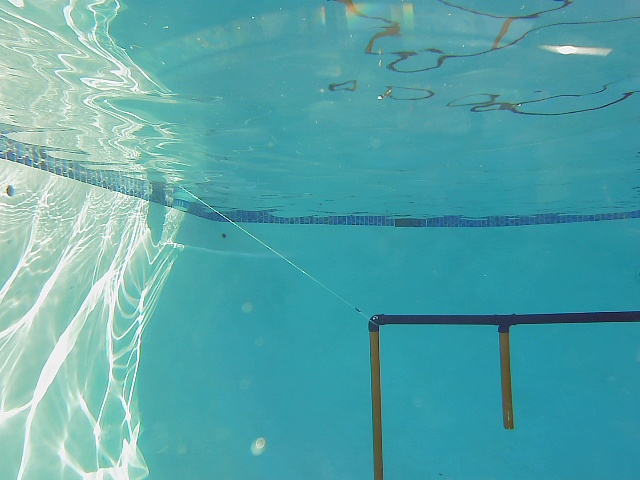Gate: (368, 327, 387, 480), (496, 326, 518, 431)
